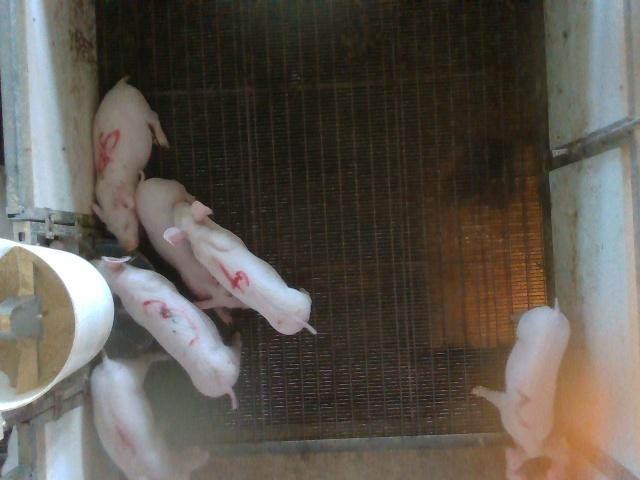pig-1: (90, 358, 174, 479)
pig-2: (472, 306, 570, 477)
pig-3: (92, 256, 240, 408)
pig-4: (165, 201, 316, 334)
pig-5: (92, 78, 168, 251)
